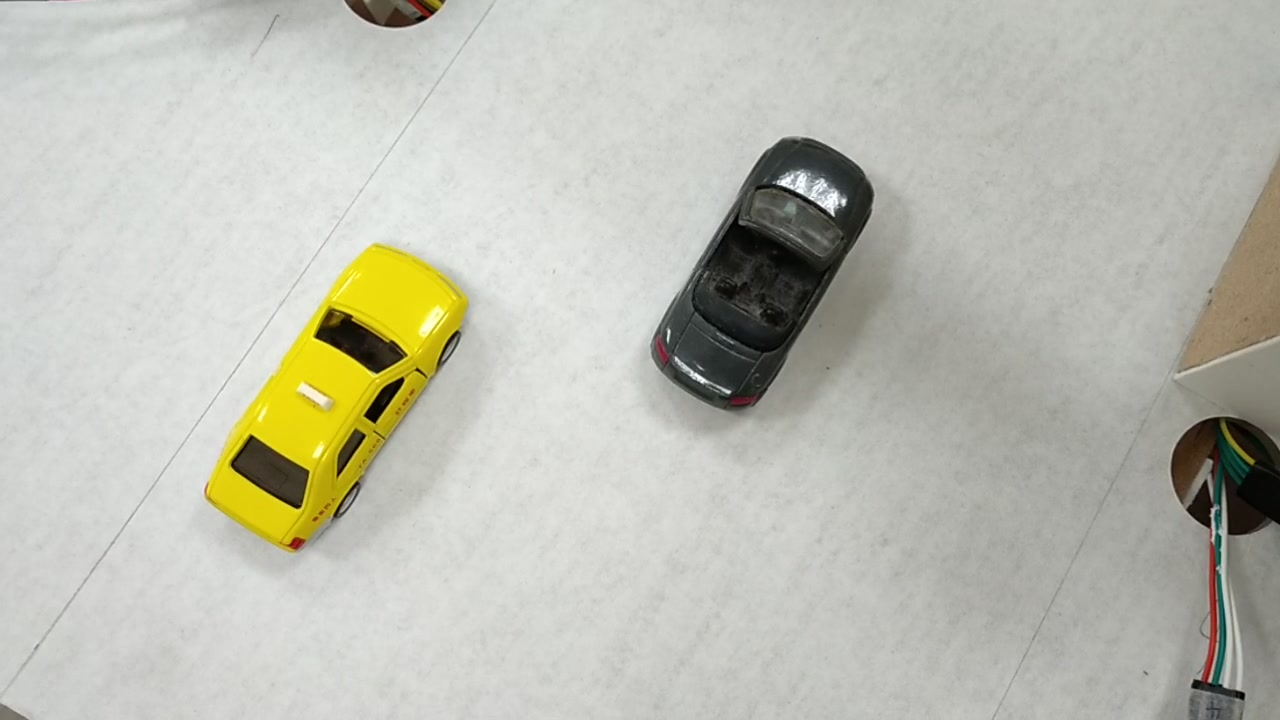car: (200, 266, 459, 542), (646, 156, 871, 392)
